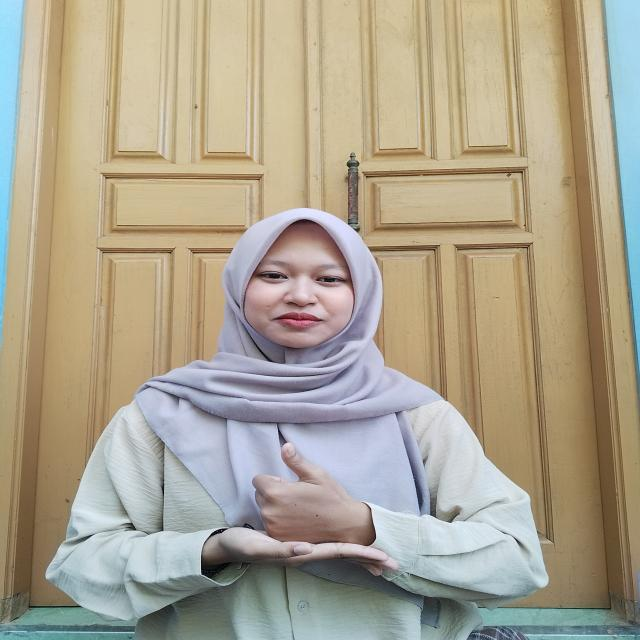cantik: (175, 442, 414, 586)
